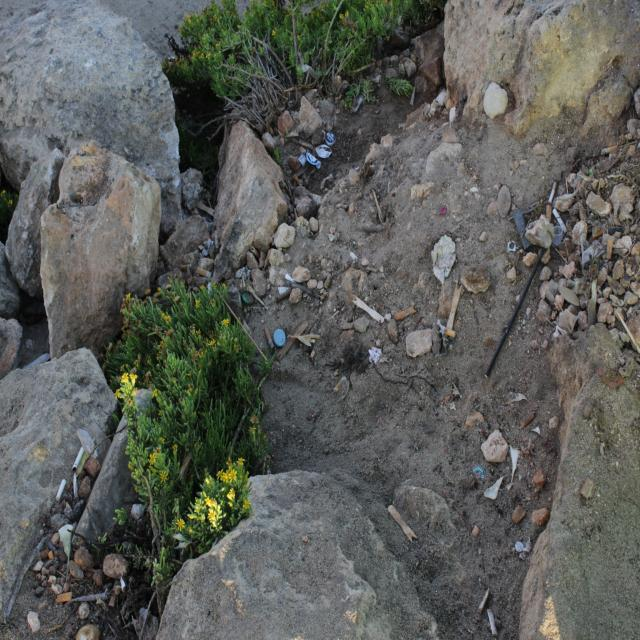Bottle cap: (274, 328, 286, 347), (553, 224, 563, 246), (473, 465, 486, 481), (241, 290, 254, 305), (324, 132, 337, 145)
Cigarette: (394, 304, 417, 321), (436, 321, 457, 339), (553, 209, 568, 234), (487, 606, 499, 637), (476, 590, 492, 612), (71, 447, 85, 471), (264, 326, 276, 350), (108, 581, 119, 607), (548, 181, 559, 204), (334, 376, 348, 393), (56, 479, 66, 502), (592, 225, 608, 239), (196, 267, 212, 278), (56, 592, 72, 603), (601, 145, 618, 155), (249, 245, 260, 259), (470, 525, 480, 538), (293, 174, 303, 186), (546, 203, 552, 223), (73, 474, 78, 498), (48, 550, 55, 566), (121, 576, 126, 593), (181, 263, 192, 270)
Other litter: (276, 320, 310, 363), (387, 505, 418, 546), (351, 295, 385, 325), (446, 281, 463, 329), (196, 201, 216, 218), (368, 346, 385, 364)
Other plastic: (512, 209, 533, 250), (298, 151, 322, 169), (315, 144, 333, 159)
Pop tab: (507, 240, 516, 251)
Straw: (484, 247, 548, 380)
